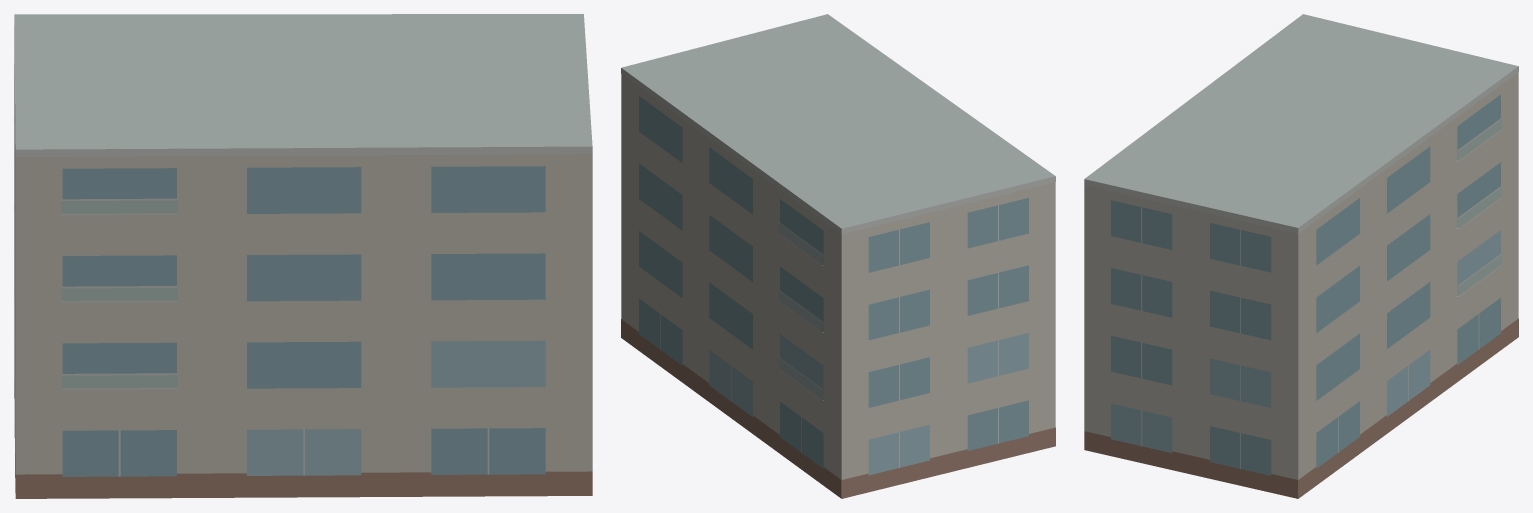
File: survey-upis-32854404.glb
The picture shows the model from 3 angles, left to right: view 1: azimuth 30°, elevation 25°; view 2: azimuth 150°, elevation 25°; view 3: azimuth 270°, elevation 25°; orthographic projection. The views are drawn at different scales.
Parts seen in each view (by area): view 1: survey-upis-32854404.tmp; view 2: survey-upis-32854404.tmp; view 3: survey-upis-32854404.tmp.
Part boxes in pixels (left/top/right/bottom): survey-upis-32854404.tmp: left=14, top=14, right=592, bottom=498; survey-upis-32854404.tmp: left=621, top=14, right=1055, bottom=498; survey-upis-32854404.tmp: left=1084, top=14, right=1518, bottom=498.
Size of the model in its own units: 19.15 by 11.3 by 16.43.
